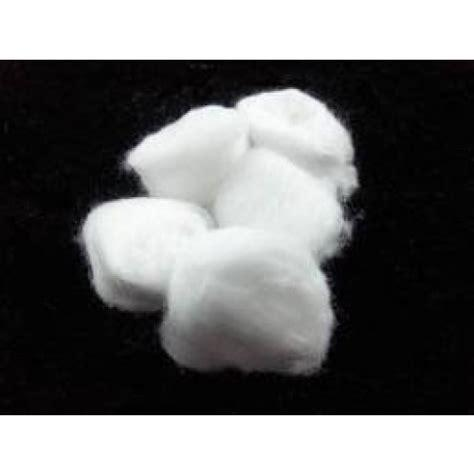cotton: (161, 229, 336, 372), (207, 141, 346, 263), (83, 193, 217, 310), (243, 84, 357, 201), (131, 104, 249, 215)
